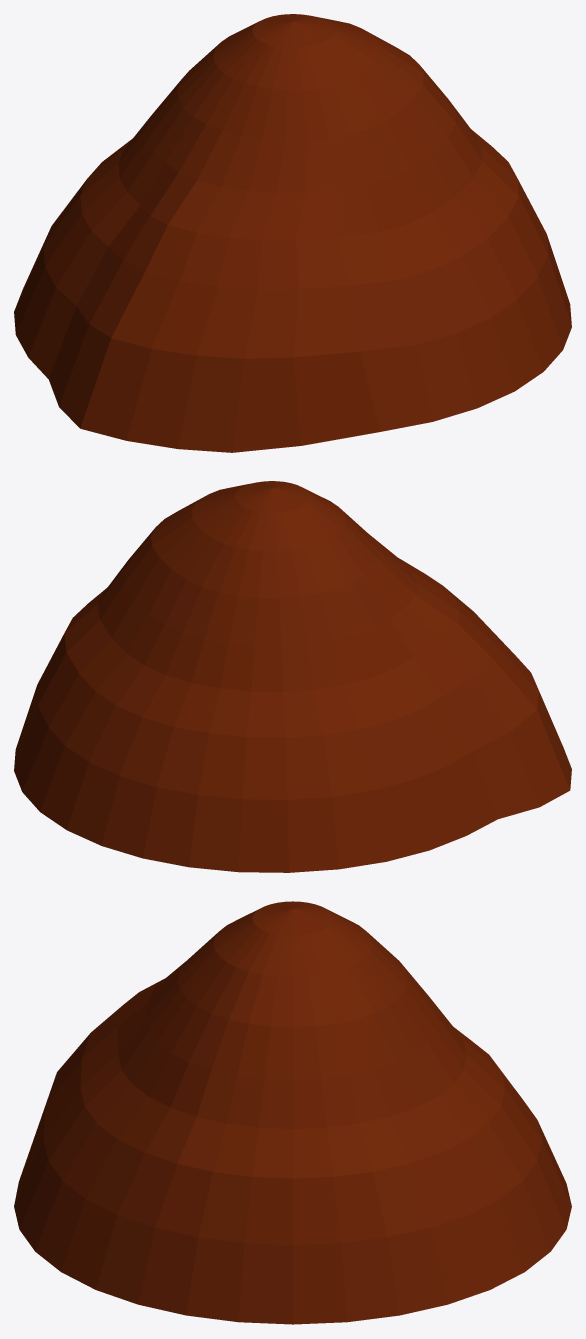
The model's file is DirtMound.fbx.
3 views of the same model, one above another, from view 1: azimuth 30°, elevation 25°; view 2: azimuth 150°, elevation 25°; view 3: azimuth 270°, elevation 25° (orthographic). The views are drawn at different scales.
Parts seen in each view (by area): view 1: Sphere; view 2: Sphere; view 3: Sphere.
Part boxes in pixels (x1=…): Sphere: x1=14, y1=14, x2=571, y2=452; Sphere: x1=14, y1=481, x2=571, y2=872; Sphere: x1=14, y1=901, x2=571, y2=1324.
Size of the model in its own units: 283 by 160 by 269.
